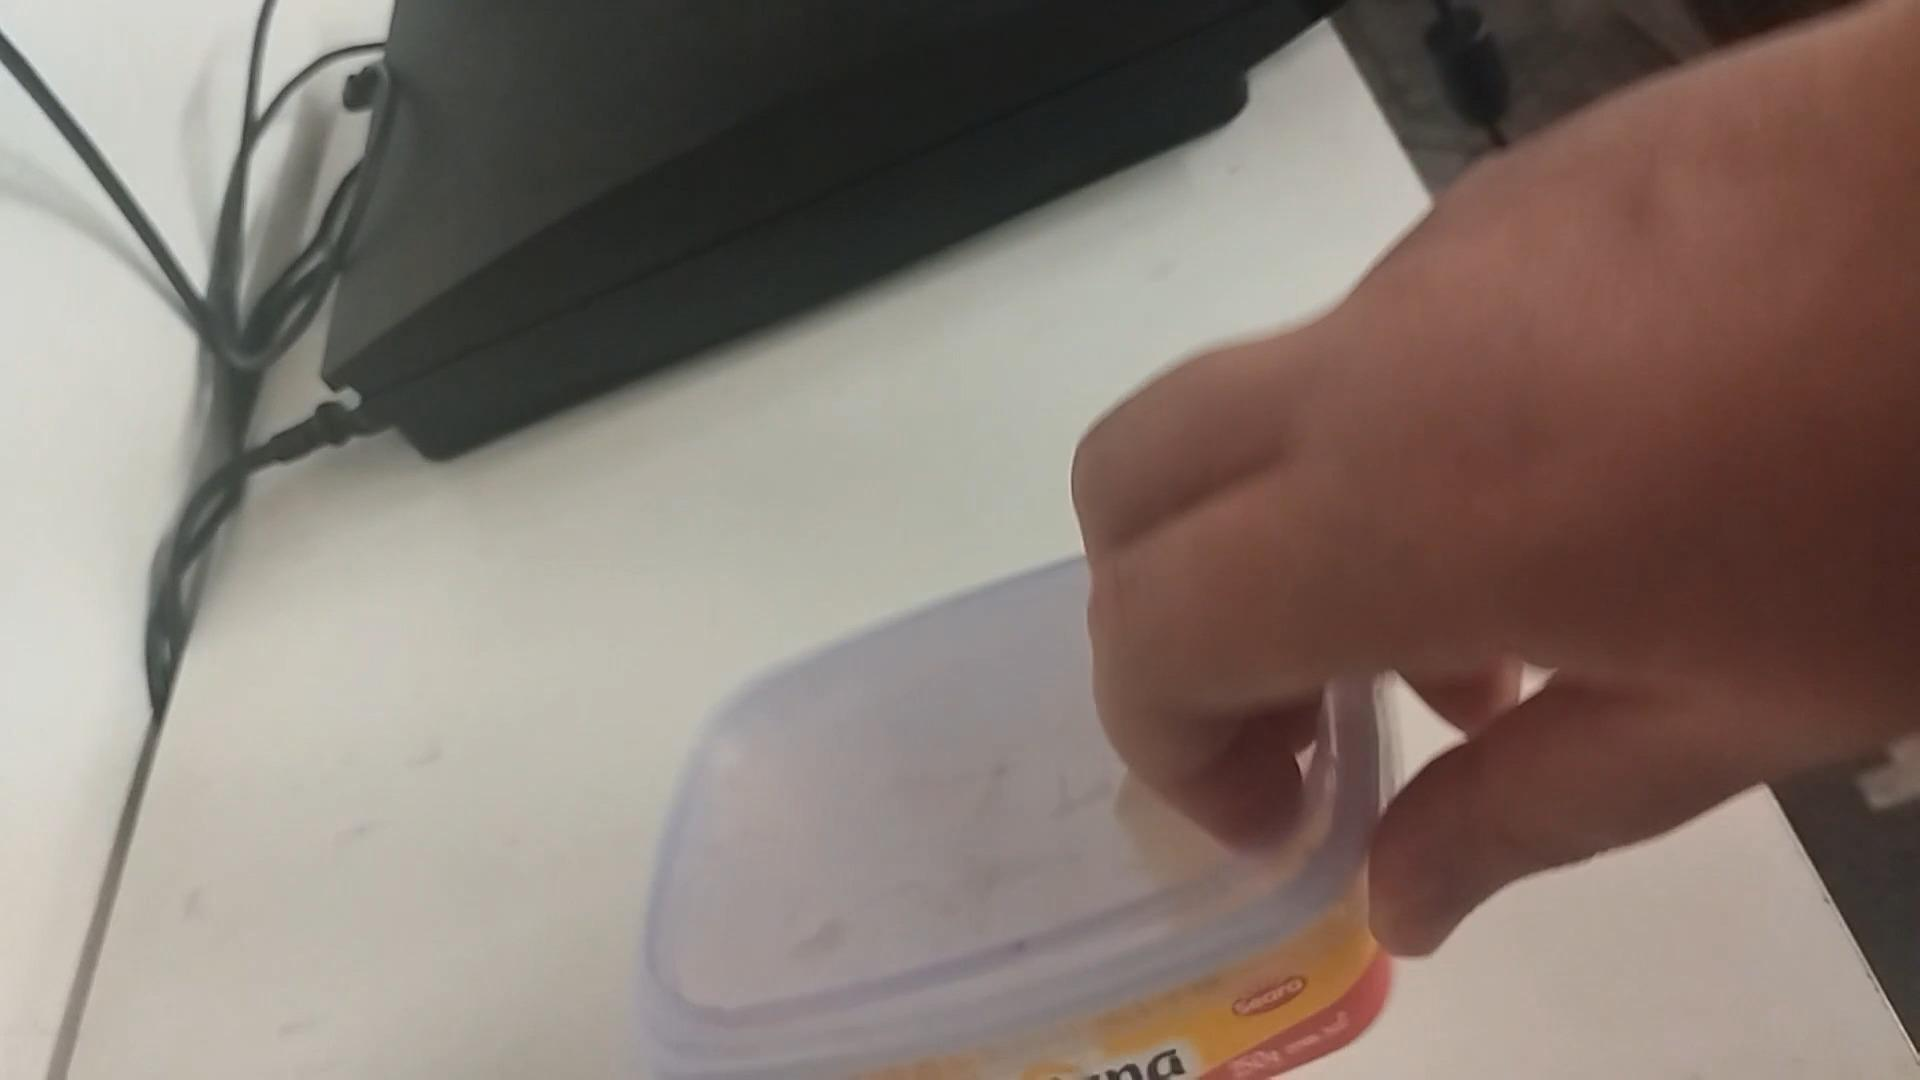butter: (632, 556, 1385, 1079)
